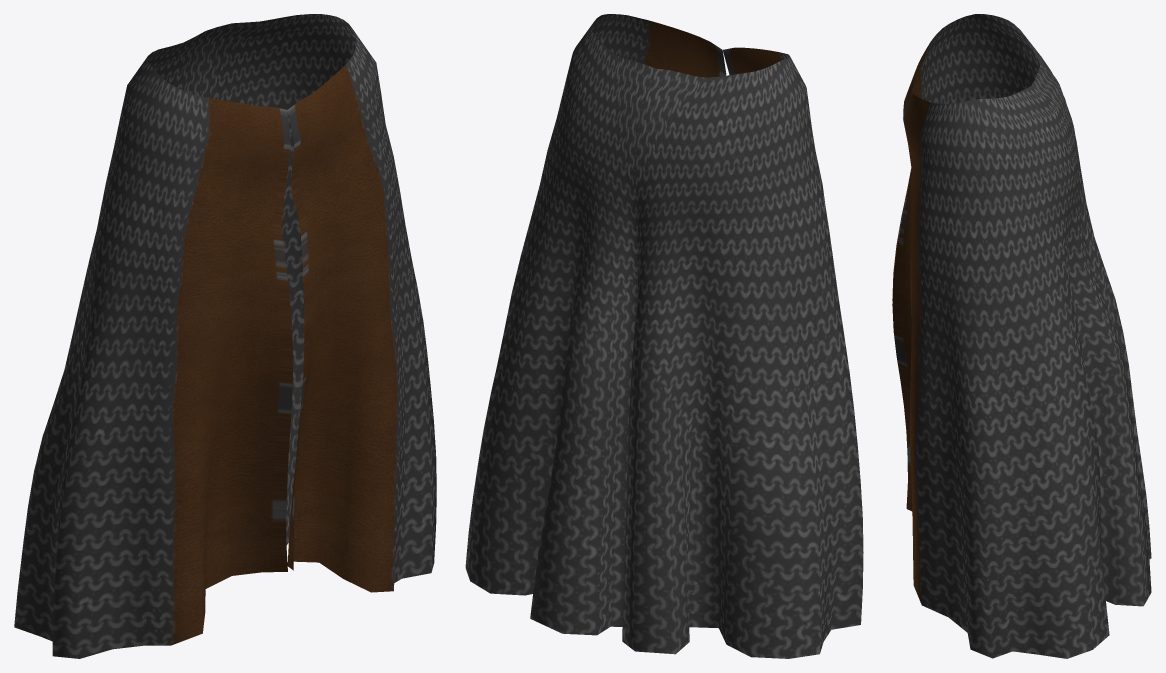
Rendered from clo_rivendell_torso_lord3.fbx.
3 views of the same model, side by side, from view 1: azimuth 30°, elevation 25°; view 2: azimuth 150°, elevation 25°; view 3: azimuth 270°, elevation 25° (orthographic). The views are drawn at different scales.
Parts seen in each view (by area): view 1: clo_rivendell_torso_lord3; view 2: clo_rivendell_torso_lord3; view 3: clo_rivendell_torso_lord3.
Boxes of the visible parts, x1=… form: clo_rivendell_torso_lord3: x1=14, y1=14, x2=436, y2=658; clo_rivendell_torso_lord3: x1=465, y1=14, x2=863, y2=658; clo_rivendell_torso_lord3: x1=892, y1=14, x2=1151, y2=658.
Size of the model in its own units: 0.6018 by 0.3886 by 0.8736.
1 material, 1 textured.
